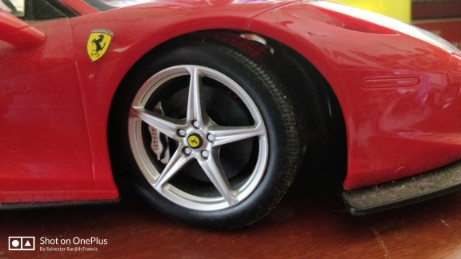unaligned_wheel: (116, 33, 333, 234)
